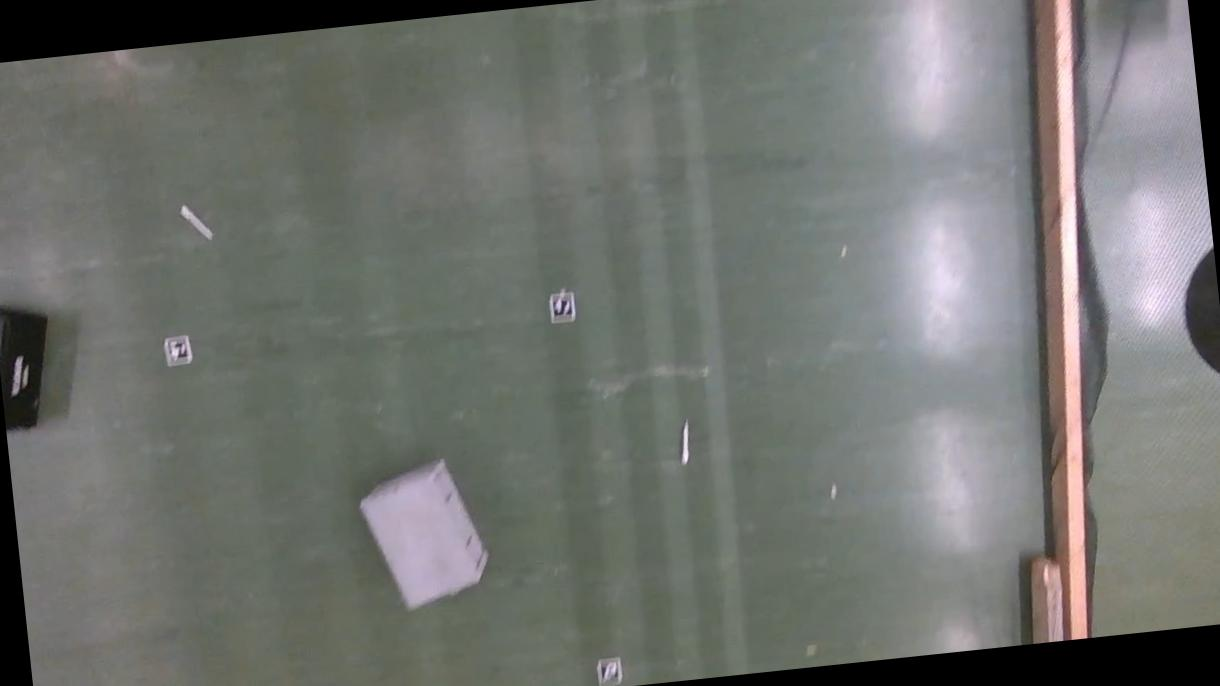probes: (181, 202, 212, 240), (679, 418, 693, 462)
rako: (356, 452, 493, 611), (0, 295, 58, 434)
